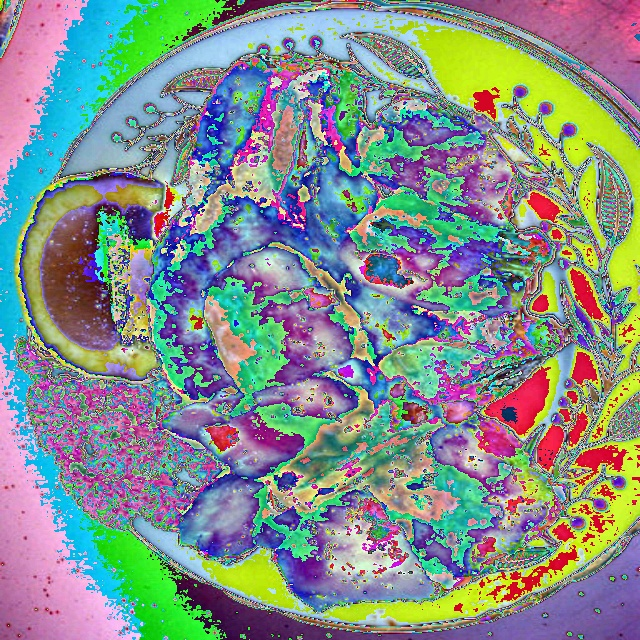background: (12, 50, 571, 613)
